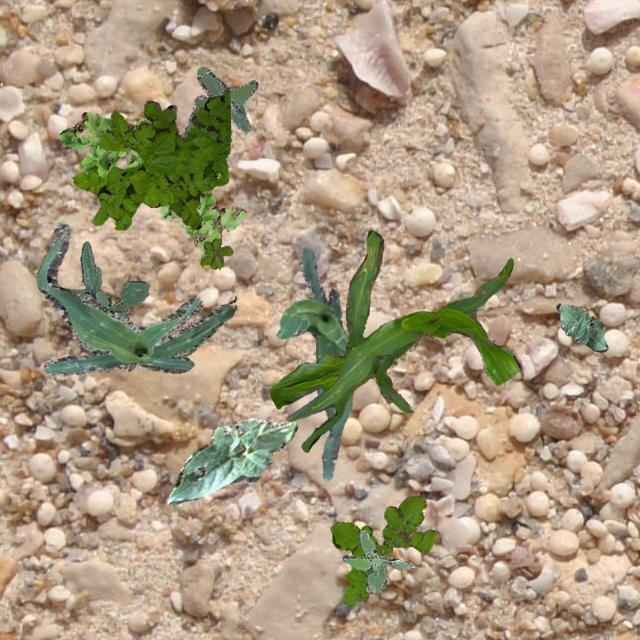crop: (267, 230, 518, 450), (36, 222, 236, 374), (275, 246, 351, 479), (166, 416, 296, 504), (554, 302, 606, 350)
weed: (58, 110, 245, 262), (72, 88, 230, 228), (330, 494, 434, 608), (68, 240, 148, 320), (180, 66, 256, 136), (342, 528, 412, 592), (200, 238, 232, 268)
